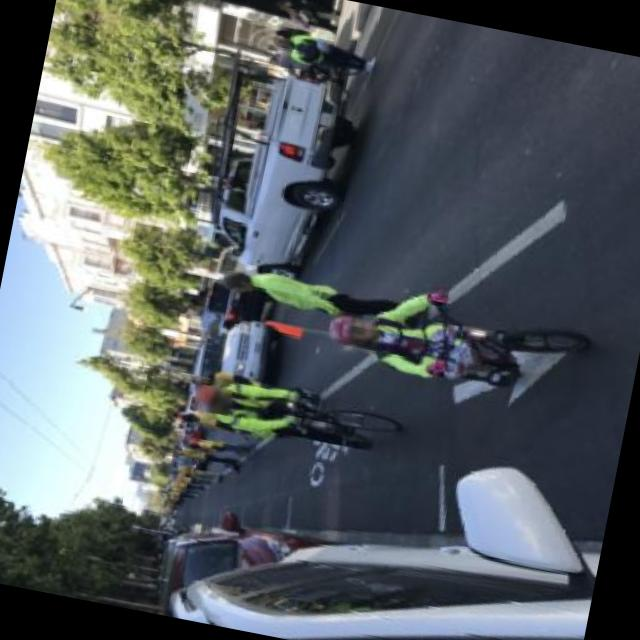With Helmet: (327, 306, 382, 349), (192, 380, 235, 416)
